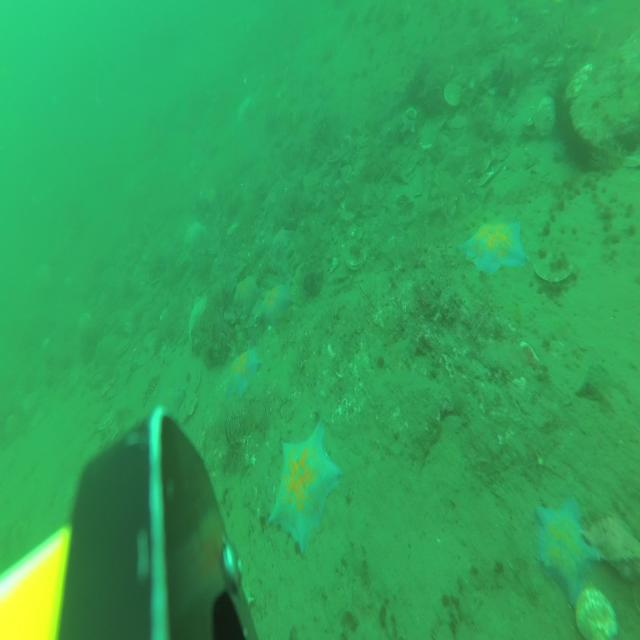echinus: (552, 82, 580, 133), (566, 126, 594, 174)
holothurian: (143, 371, 160, 404)
scallop: (576, 590, 617, 640), (535, 254, 572, 284), (343, 239, 366, 271), (178, 392, 197, 423), (101, 427, 118, 454), (445, 82, 463, 106), (187, 367, 200, 398), (450, 116, 468, 136), (115, 337, 130, 357), (98, 412, 113, 429)
starfish: (269, 417, 341, 557), (535, 495, 599, 608), (459, 220, 525, 276), (225, 347, 261, 402), (257, 282, 293, 328), (235, 278, 259, 309), (272, 226, 293, 251)
